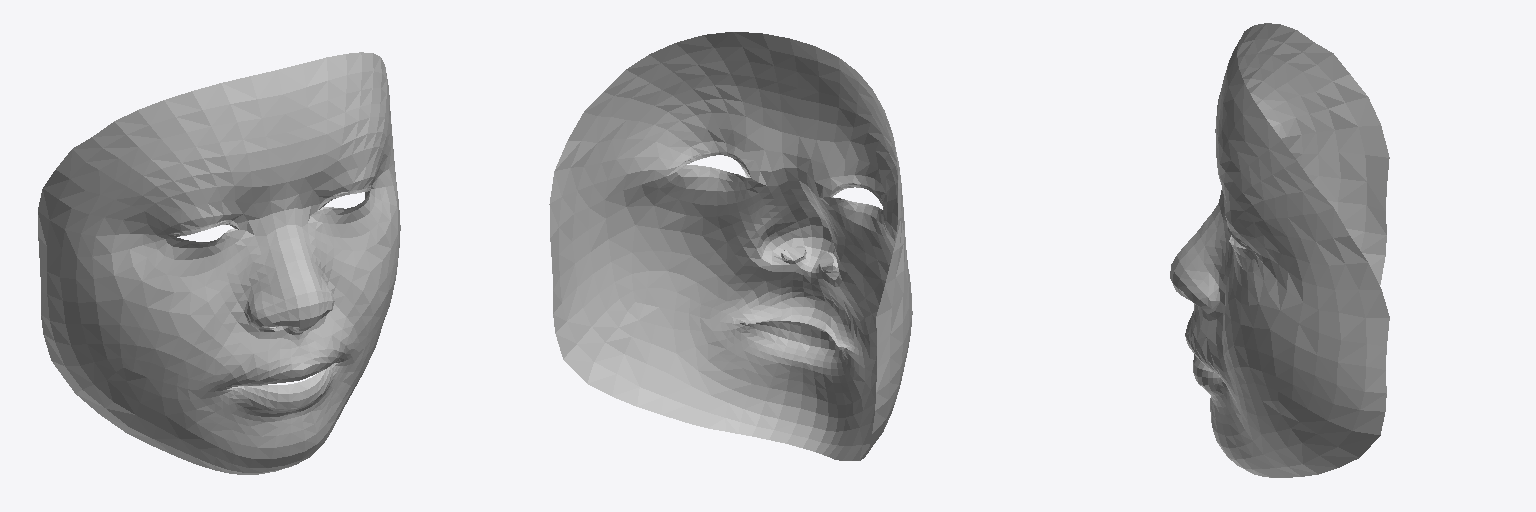
The model's file is tongueOut.obj.
3 renders of one model, left to right at view 1: azimuth 30°, elevation 25°; view 2: azimuth 150°, elevation 25°; view 3: azimuth 270°, elevation 25°, orthographic.
Visible parts, largest first — view 1: default; view 2: default; view 3: default.
Part boxes in pixels (x1,y1,x2,y2): default: (38, 52, 400, 474); default: (549, 32, 912, 460); default: (1170, 23, 1389, 477).
Bounding box in the file's own units: 0.1624 × 0.1851 × 0.0913.